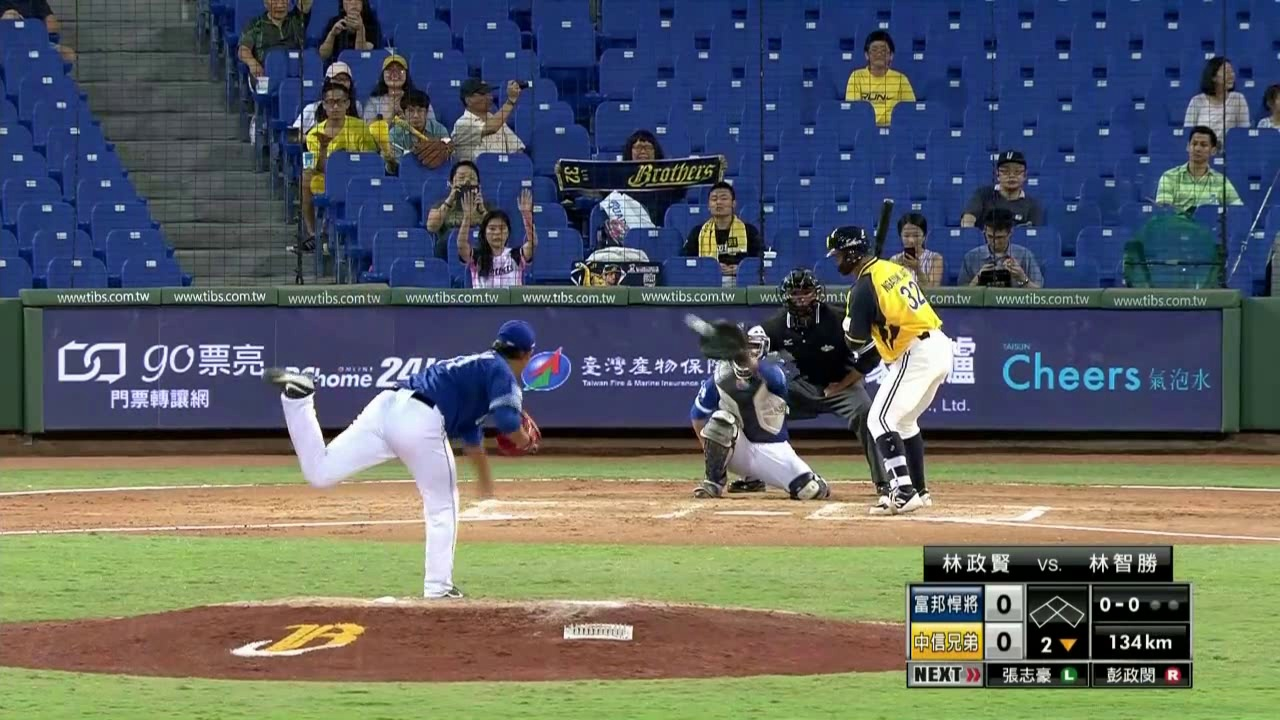ball: (686, 314, 711, 337)
base: (1027, 592, 1086, 628)
bat: (860, 194, 896, 290)
out: (1146, 590, 1185, 617)
score1: (987, 588, 1020, 616)
score2: (986, 627, 1019, 656)
session: (1028, 631, 1086, 657)
speed: (1095, 628, 1182, 655)
strikeball: (1093, 592, 1143, 617)
